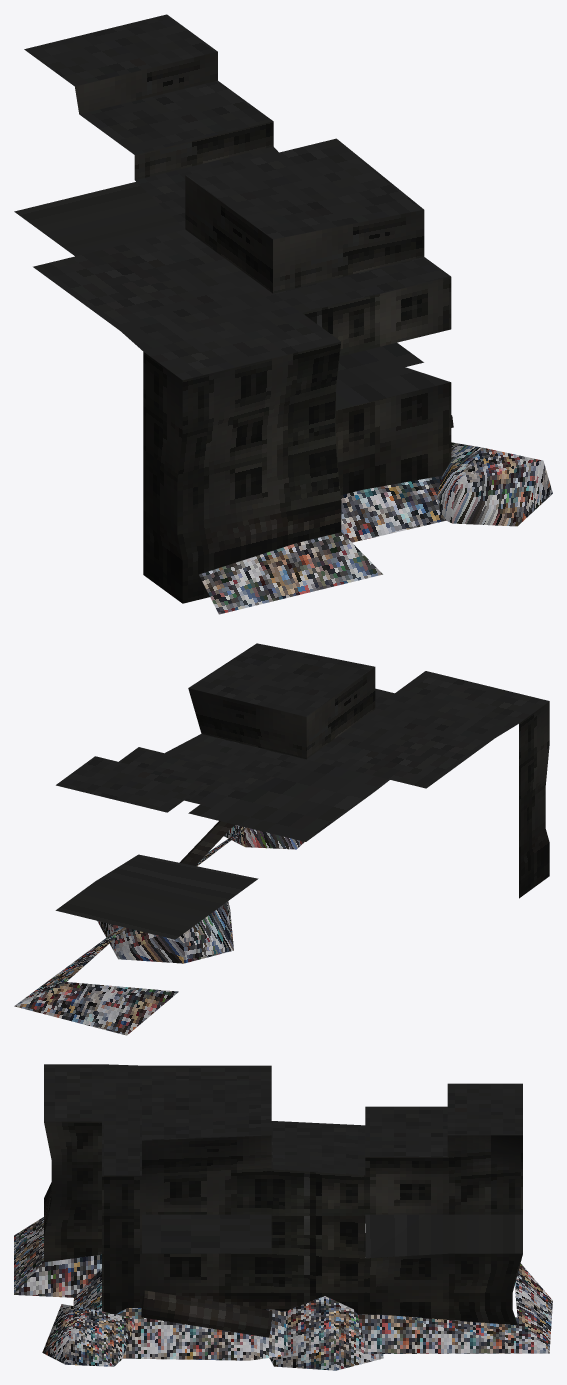
File: env_bld_apartment_poor.glb
The picture shows the model from 3 angles, top to bottom: view 1: azimuth 30°, elevation 25°; view 2: azimuth 150°, elevation 25°; view 3: azimuth 270°, elevation 25°; orthographic projection. The views are drawn at different scales.
Parts seen in each view (by area): view 1: env_bld_apartment_poor; view 2: env_bld_apartment_poor; view 3: env_bld_apartment_poor.
Part boxes in pixels (x1=…): env_bld_apartment_poor: x1=14, y1=14, x2=552, y2=614; env_bld_apartment_poor: x1=14, y1=643, x2=549, y2=1035; env_bld_apartment_poor: x1=14, y1=1064, x2=552, y2=1370.
Size of the model in its own units: 0.0353 by 0.0258 by 0.0578.
4 materials, 4 textured.
